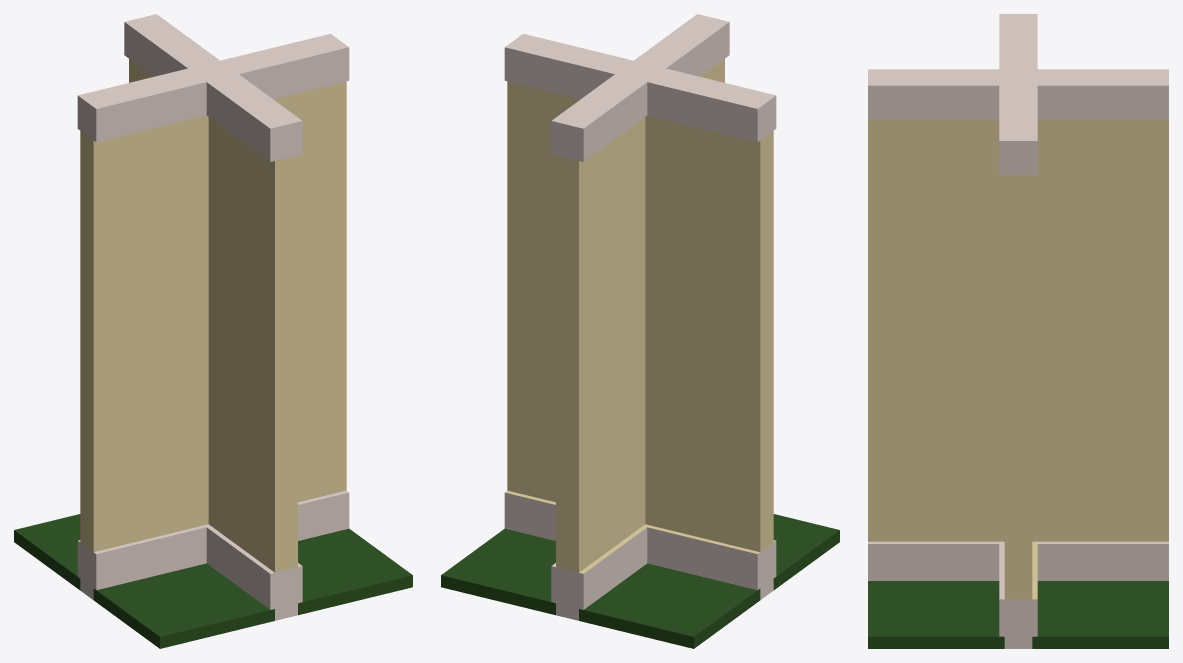
The model's file is Three Side Corner.fbx.
3 renders of one model, left to right at view 1: azimuth 30°, elevation 25°; view 2: azimuth 150°, elevation 25°; view 3: azimuth 270°, elevation 25°, orthographic. The views are drawn at different scales.
Parts seen in each view (by area): view 1: Three Side Corner; view 2: Three Side Corner; view 3: Three Side Corner.
Boxes of the visible parts, box(x1,y1,x2,y2) form: Three Side Corner: box(14, 14, 412, 648); Three Side Corner: box(441, 14, 839, 648); Three Side Corner: box(868, 14, 1168, 648).
Bounding box in the file's own units: 110 × 205 × 110.
